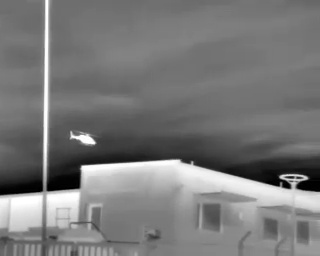HELICOPTER: (67, 125, 111, 153)
